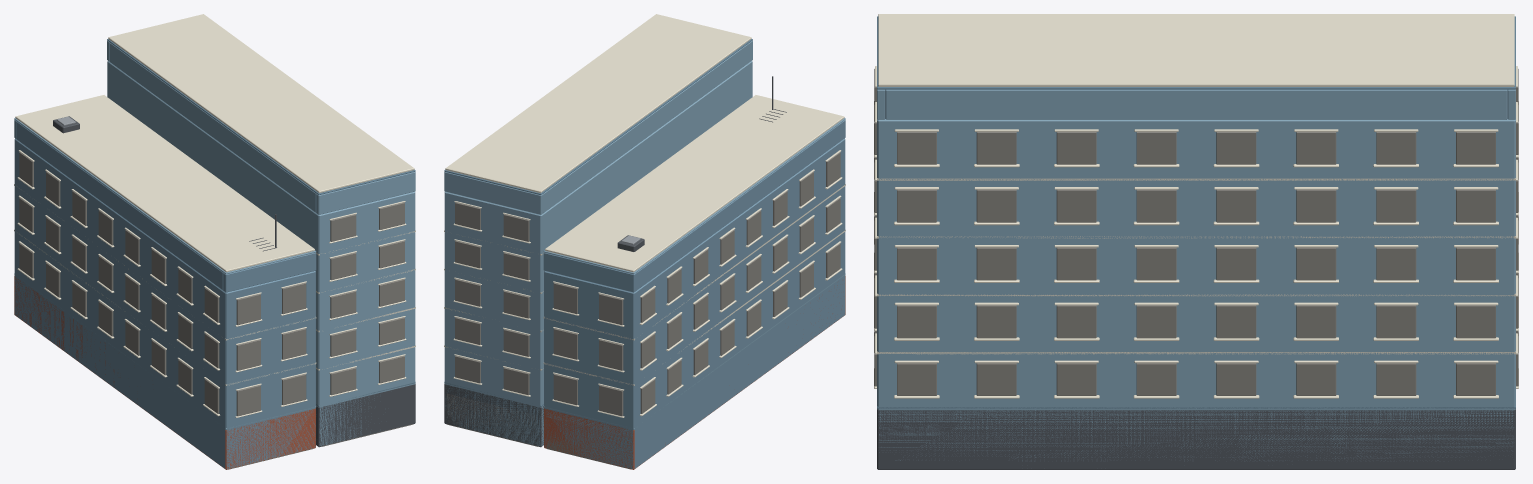
File: VG_Bld_Commercial_22.fbx
The picture shows the model from 3 angles, left to right: view 1: azimuth 30°, elevation 25°; view 2: azimuth 150°, elevation 25°; view 3: azimuth 270°, elevation 25°; orthographic projection. The views are drawn at different scales.
Parts seen in each view (by area): view 1: VG_Bld_Commercial_22_Body; view 2: VG_Bld_Commercial_22_Body; view 3: VG_Bld_Commercial_22_Body.
Part boxes in pixels (x1,y1,x2,y2): VG_Bld_Commercial_22_Body: (14, 14, 415, 469); VG_Bld_Commercial_22_Body: (444, 14, 845, 469); VG_Bld_Commercial_22_Body: (874, 14, 1518, 469).
Size of the model in its own units: 20 by 25.09 by 38.
